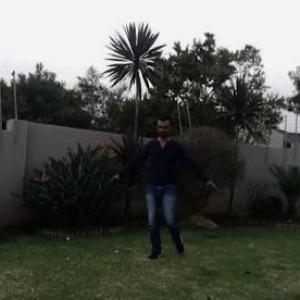land: (104, 110, 214, 249)
